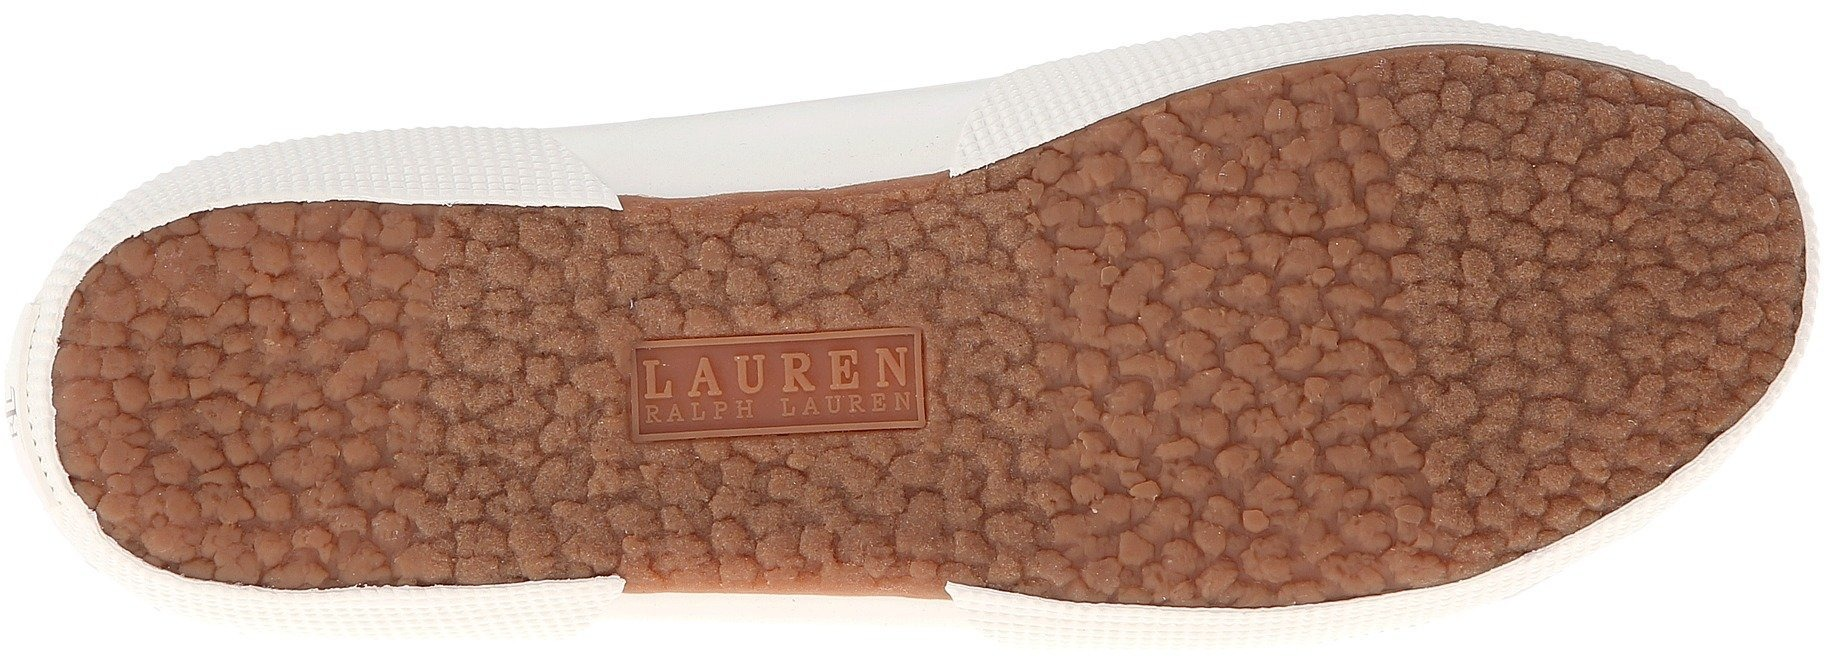other: (79, 97, 1804, 613)
quad: (635, 329, 922, 444)
text: (630, 333, 926, 451)
